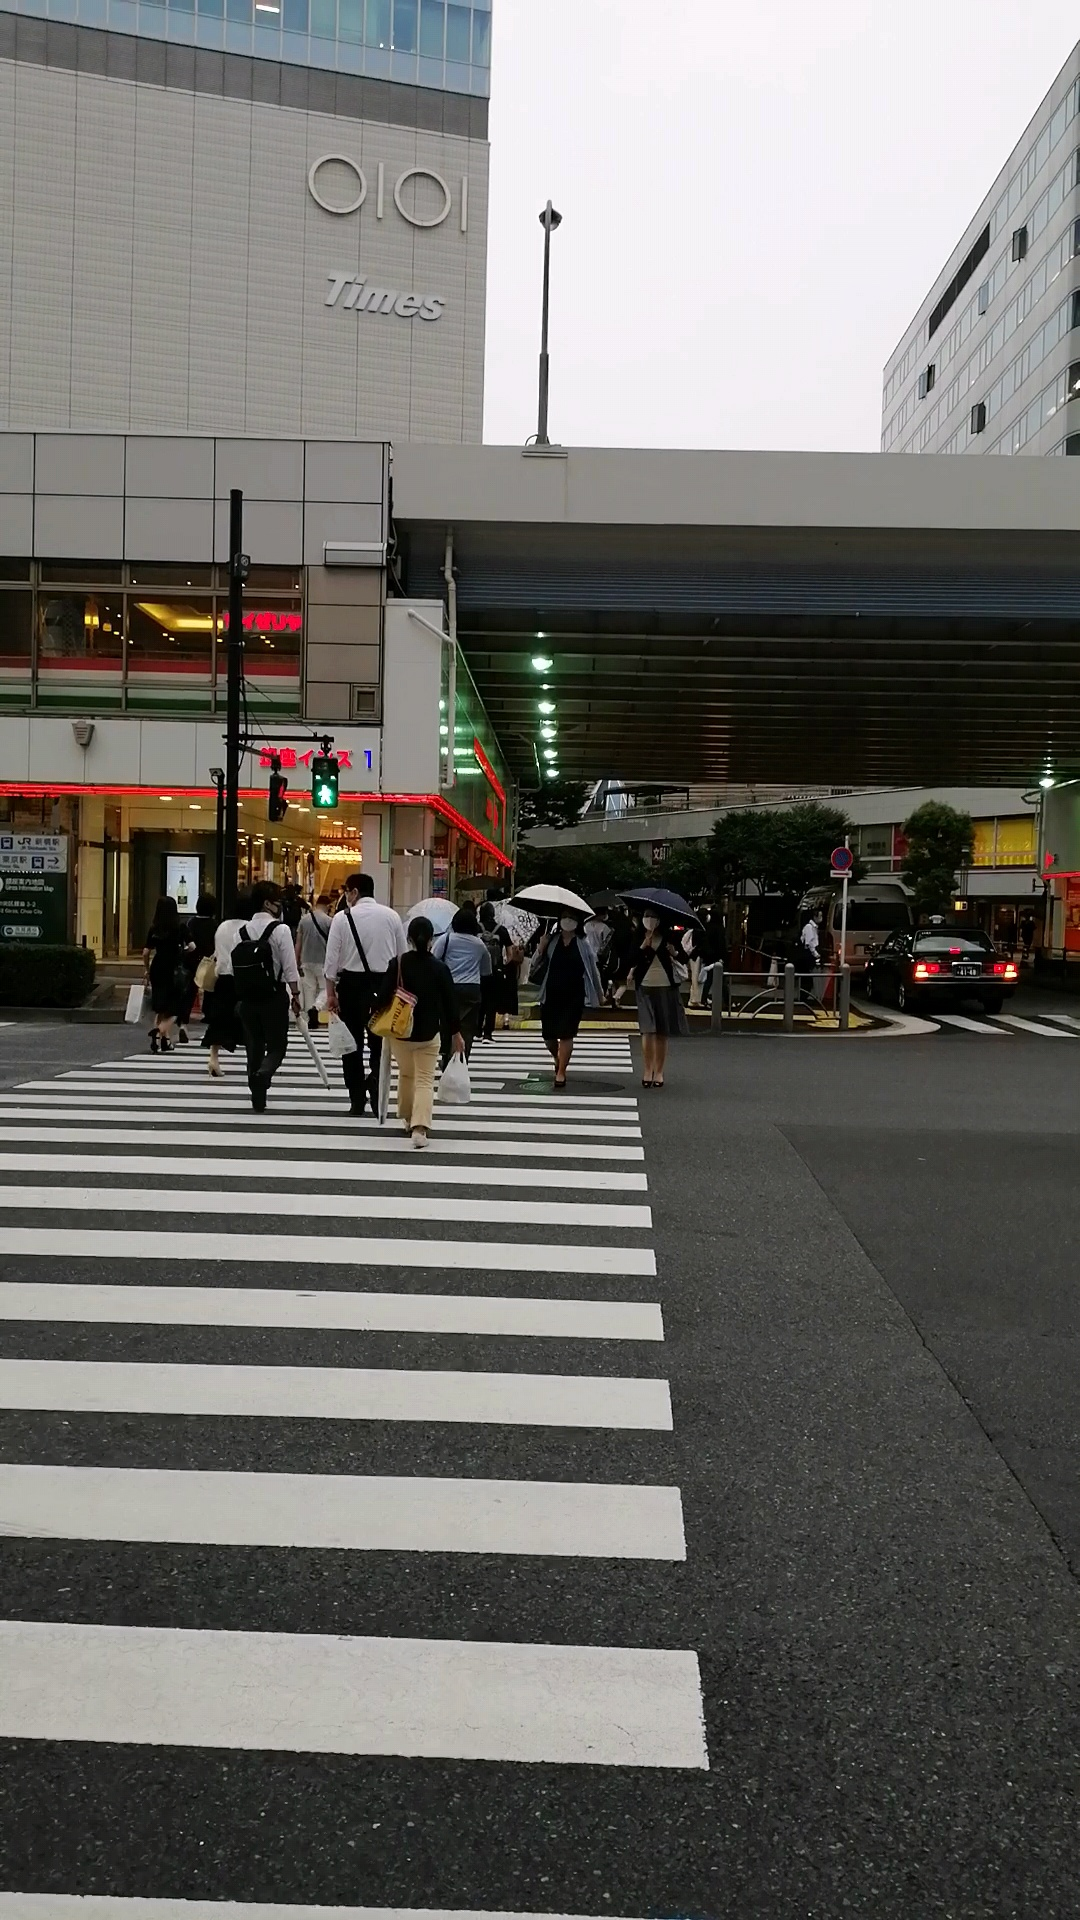green: (313, 756, 340, 814)
